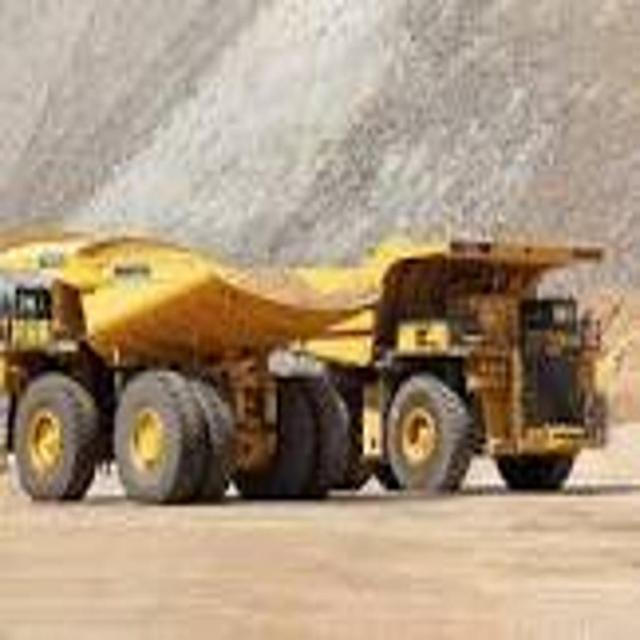dump_truck: (0, 229, 308, 510), (322, 230, 616, 499)
